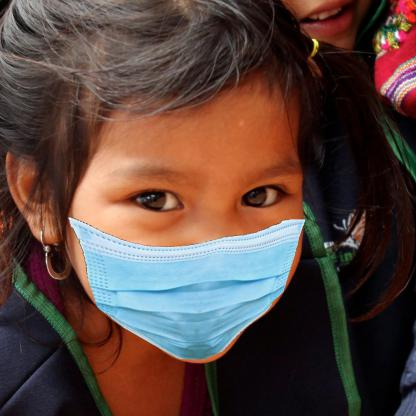Correctly_Masked: (67, 74, 306, 366)
